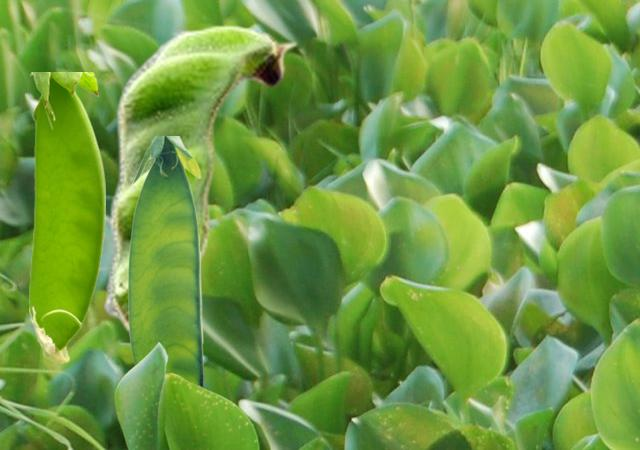pea: (102, 24, 297, 342), (29, 72, 104, 362), (127, 136, 202, 385)
